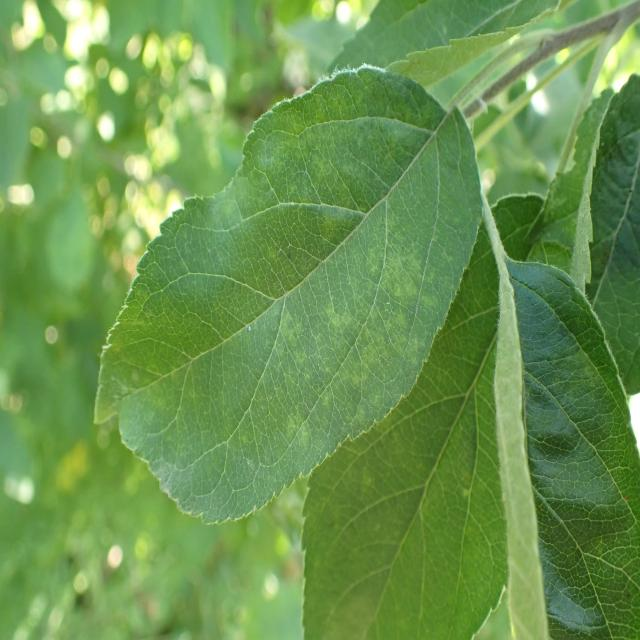scab: (95, 132, 454, 493)
